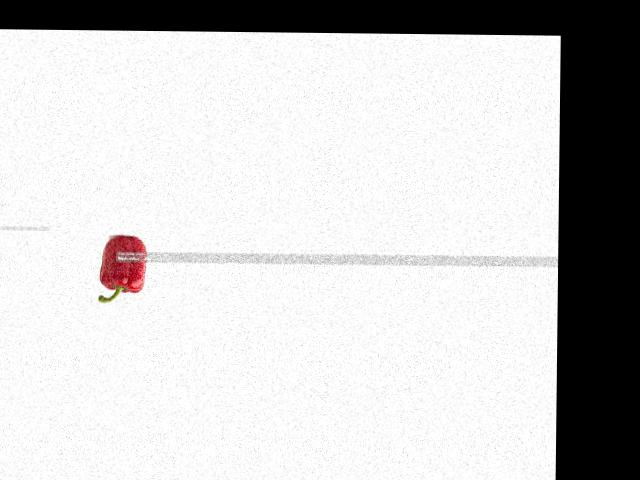bell_pepper: (91, 237, 150, 306)
